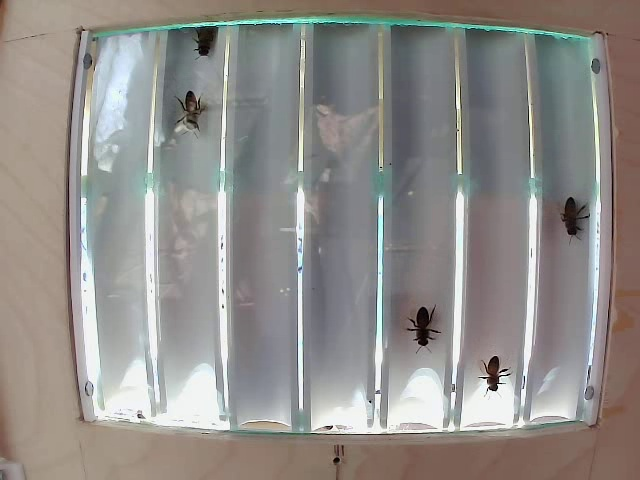bee: (170, 75, 212, 149), (407, 292, 447, 359), (196, 18, 244, 72), (556, 187, 595, 242), (471, 346, 500, 399)
